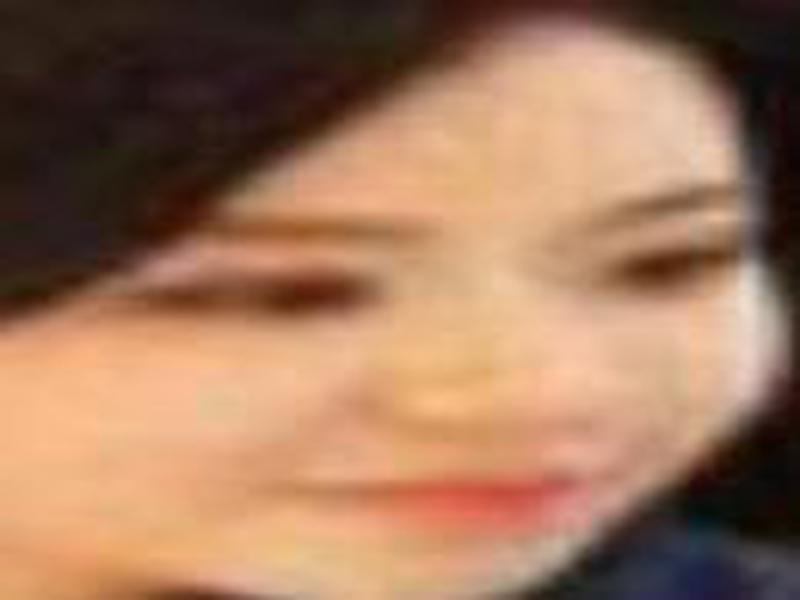without_mask: (34, 44, 778, 587)
